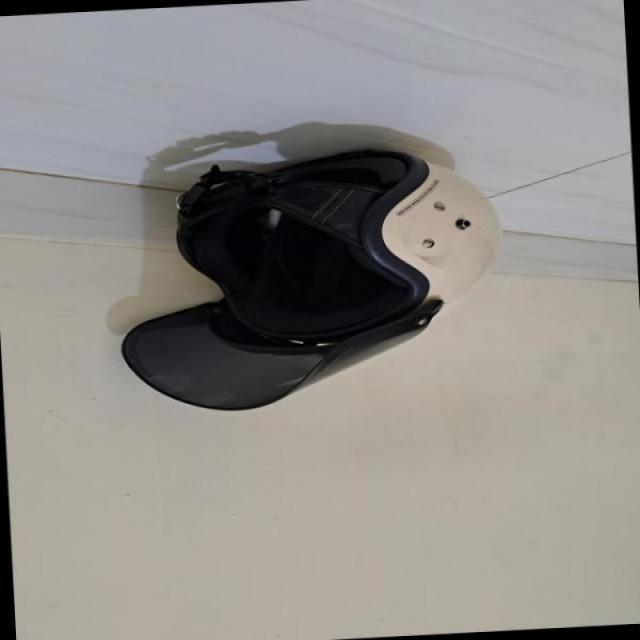Helmet: (104, 133, 507, 412)
